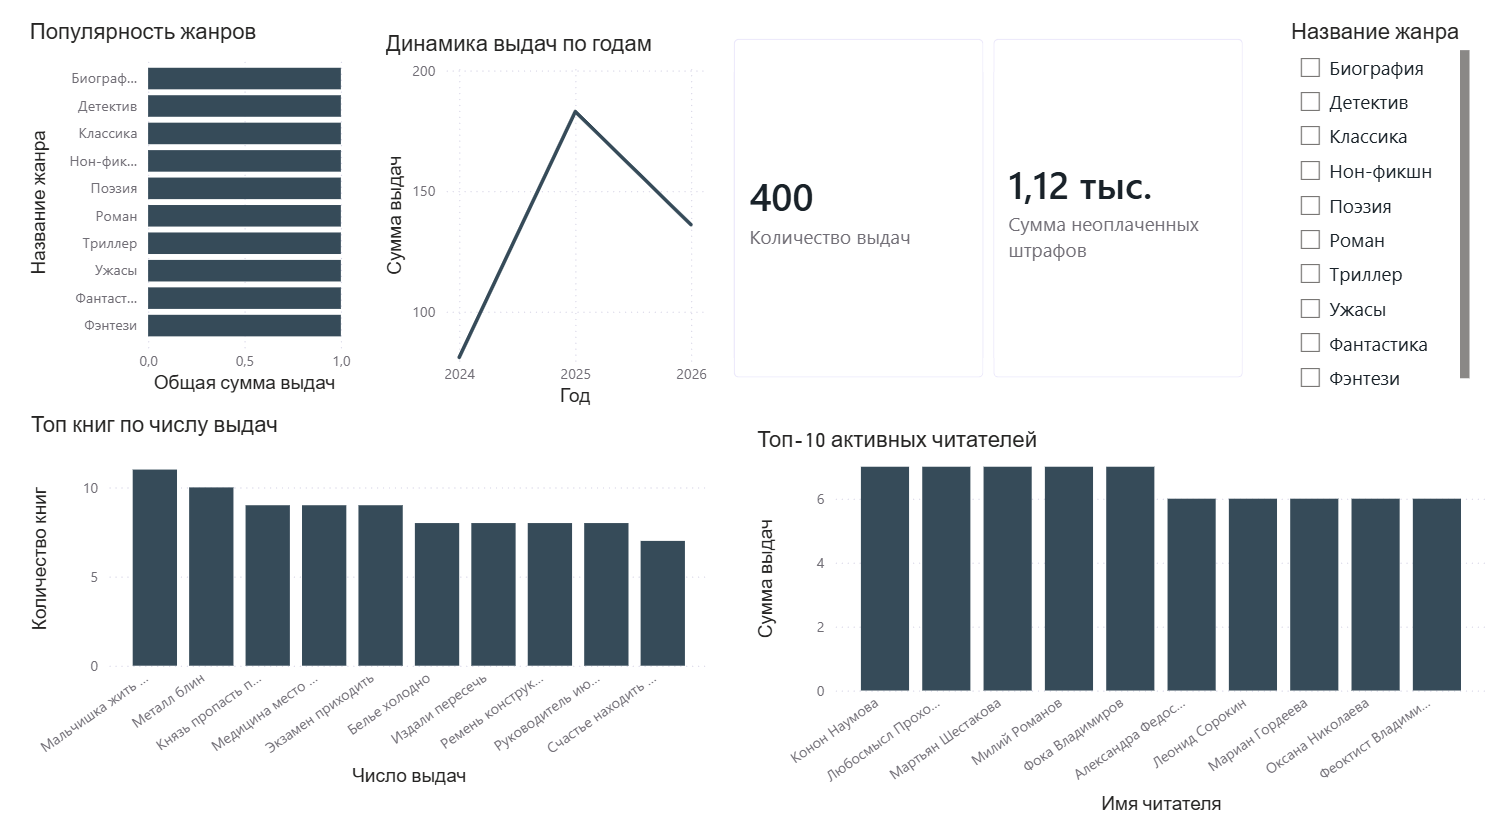

The dashboard page shown, as its layout file describes it:
{"tool":"powerbi","page":{"name":"Страница 1","canvas":[1280,720],"ordinal":0},"visuals":[{"type":"barChart","title":"Популярность жанров","fields":{"Category":["genre_popularity.genre_name"],"Y":["CountNonNull(genre_popularity.total_loans)"]},"box":[28.8,28.8,279.9,319.7],"z":0},{"type":"lineChart","title":"Динамика выдач по годам","fields":{"Category":["monthly_loans.loan_month.Изменение.Иерархия дат.Год","monthly_loans.loan_month.Изменение.Иерархия дат.Квартал","monthly_loans.loan_month.Изменение.Иерархия дат.Месяц","monthly_loans.loan_month.Изменение.Иерархия дат.День"],"Y":["Sum(monthly_loans.loans_count)"]},"box":[327.7,39.1,279.8,320.4],"z":1000},{"type":"columnChart","title":"Топ-10 активных читателей","fields":{"Category":["top_readers.reader_name"],"Y":["Sum(top_readers.total_loans)"]},"box":[640.2,372.7,623.6,330.2],"z":2000},{"type":"columnChart","title":"Топ книг по числу выдач","fields":{"Category":["top_books.title"],"Y":["Sum(top_books.times_loaned)"]},"box":[29,359.6,580,319],"z":3000},{"type":"cardVisual","fields":{"Data":["CountNonNull(loans_full.loan_id)","Sum(unpaid_fines.unpaid_amount)"]},"box":[609.3,28.8,462.4,319.7],"z":4000},{"type":"slicer","title":"Название жанра","fields":{"Values":["genre_popularity.genre_name"]},"box":[1089.5,28.8,160.5,319.7],"z":5000}]}

Visuals, with their boxes in screenshot pixels (x1, y1, x2, y2), scaled from the page's 1280x720 canvas onto the 1488x827 screenshot:
"Популярность жанров" barChart: bbox=(33, 33, 359, 400)
"Динамика выдач по годам" lineChart: bbox=(381, 45, 706, 413)
"Топ-10 активных читателей" columnChart: bbox=(744, 428, 1469, 807)
"Топ книг по числу выдач" columnChart: bbox=(34, 413, 708, 779)
cardVisual - CountNonNull(loans_full.loan_id) x Sum(unpaid_fines.unpaid_amount): bbox=(708, 33, 1246, 400)
"Название жанра" slicer: bbox=(1267, 33, 1453, 400)
